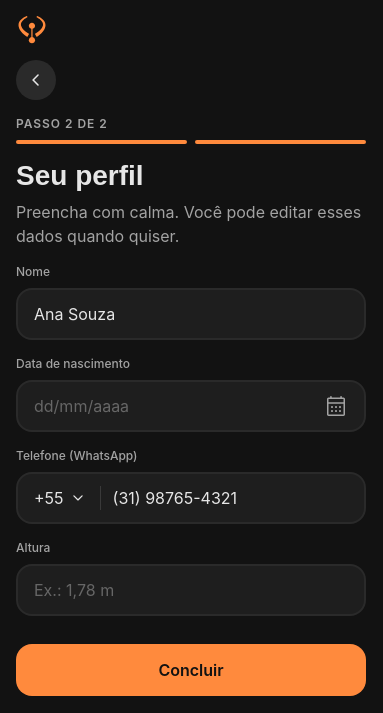
Test: Passo 2 · Seu perfil (regras 49, 85, 108 e 109) › a data de nascimento ganha as barras enquanto a pessoa digita (regra 141)
Type "15031995" into the field labelled "Data de nascimento" at x=169, y=406, box [34, 382, 304, 430]
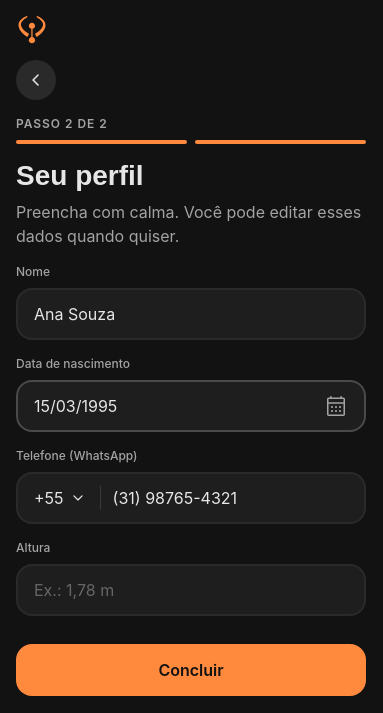
Expected: the field labelled "Data de nascimento" holds "15/03/1995", [34, 382, 304, 430]
